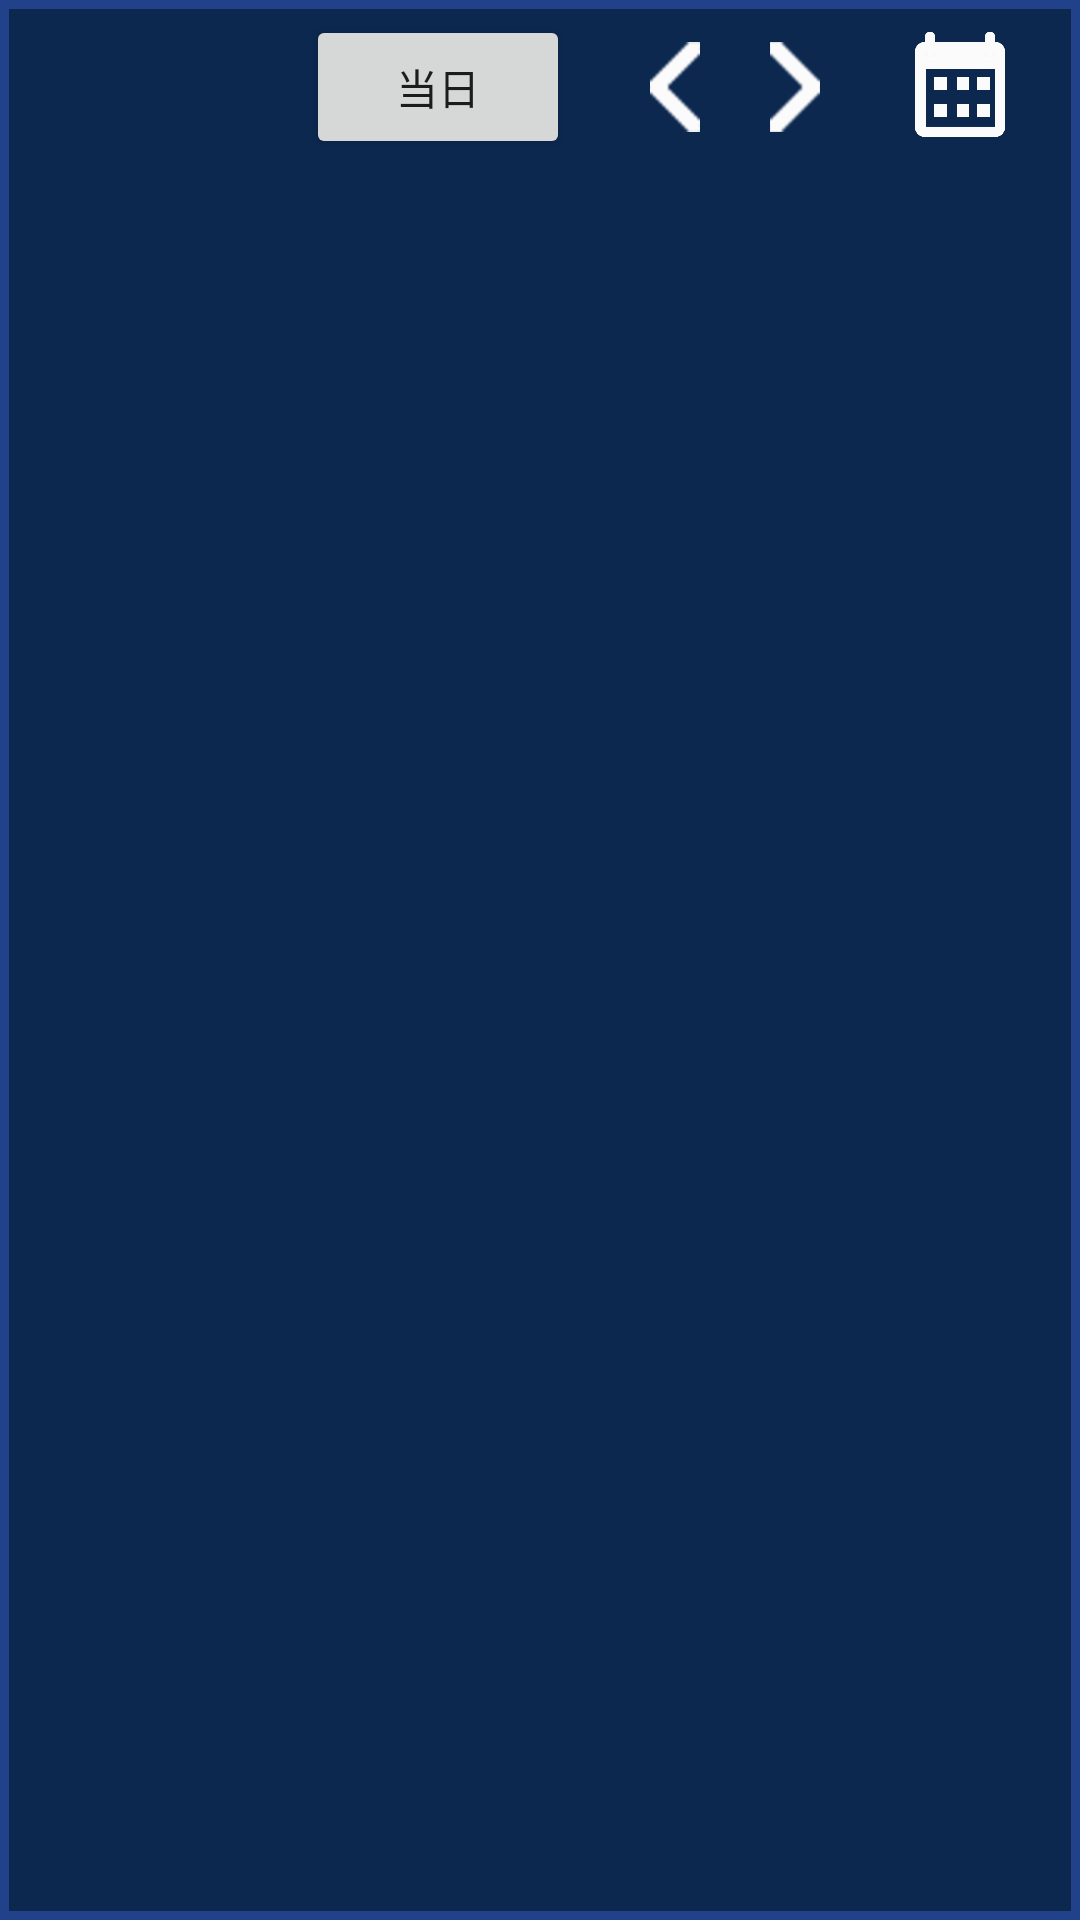

Where to tap for icons on this 1080x1920 app screen, as [x,y]:
calendar write: [960,84]
left write: [675,87]
right write: [795,87]
